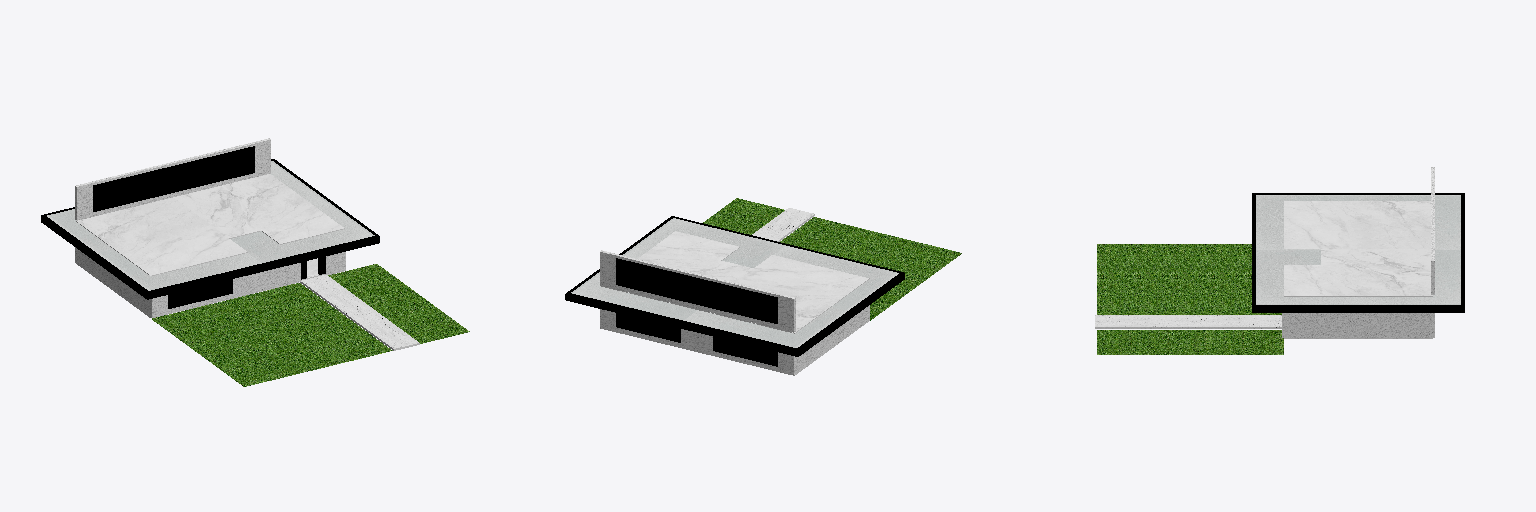
3 views of the same model, side by side, from view 1: azimuth 30°, elevation 25°; view 2: azimuth 150°, elevation 25°; view 3: azimuth 270°, elevation 25° (orthographic).
Bounding box in the file's own units: 759 × 230 × 990.
22 materials, 5 textured.